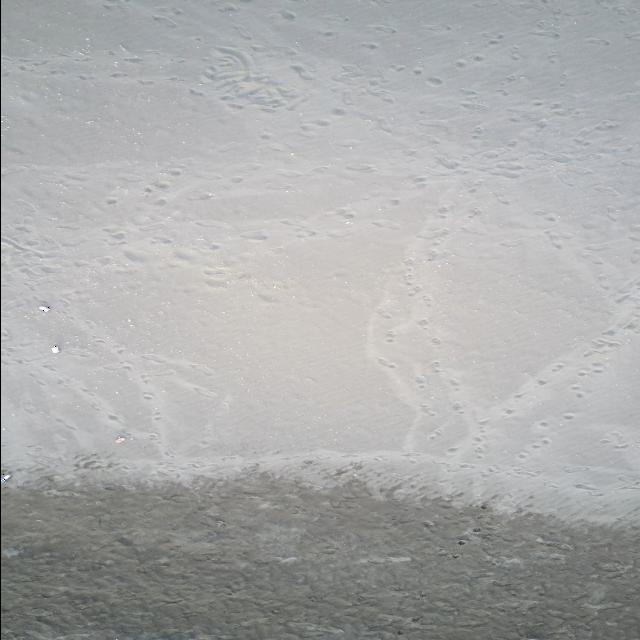Garbage: (0, 472, 11, 484), (37, 304, 47, 312), (51, 344, 59, 352)
